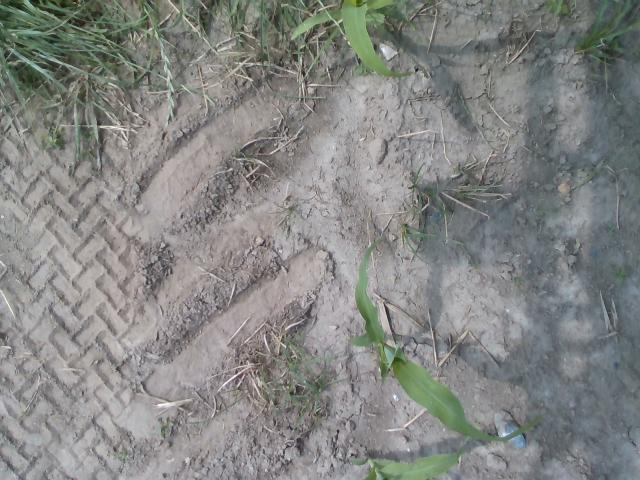Maize: (346, 234, 544, 444), (289, 0, 416, 76), (349, 428, 476, 480)
Weeds: (40, 120, 64, 150), (544, 0, 570, 16), (155, 417, 174, 435), (78, 145, 94, 160), (352, 60, 368, 74), (616, 266, 628, 284), (79, 127, 94, 141), (510, 276, 522, 290), (534, 202, 548, 214), (115, 449, 129, 460), (607, 221, 615, 235), (633, 48, 640, 58), (488, 125, 496, 132)
